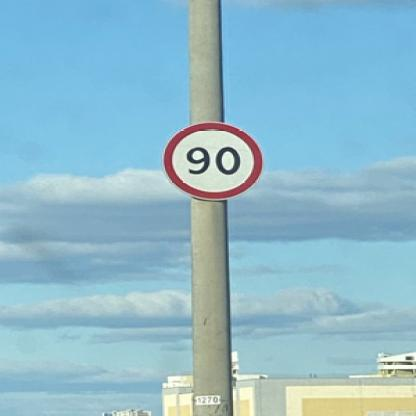speedlimit: (161, 120, 261, 198)
